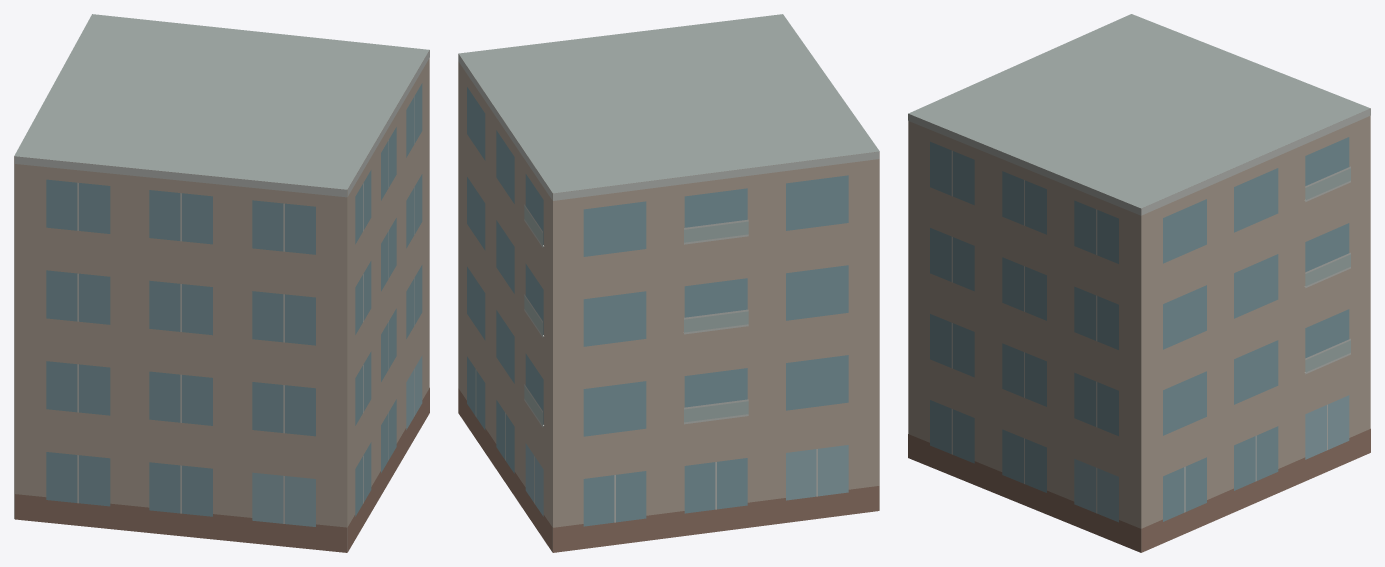
File: survey-upis-32782598.glb
The picture shows the model from 3 angles, left to right: view 1: azimuth 30°, elevation 25°; view 2: azimuth 150°, elevation 25°; view 3: azimuth 270°, elevation 25°; orthographic projection. The views are drawn at different scales.
Parts seen in each view (by area): view 1: survey-upis-32782598.tmp; view 2: survey-upis-32782598.tmp; view 3: survey-upis-32782598.tmp.
Part boxes in pixels (x1,y1,x2,y2): survey-upis-32782598.tmp: (14, 14, 429, 552); survey-upis-32782598.tmp: (458, 14, 879, 552); survey-upis-32782598.tmp: (908, 14, 1370, 552).
Size of the model in its own units: 14.06 by 11.6 by 14.13.
